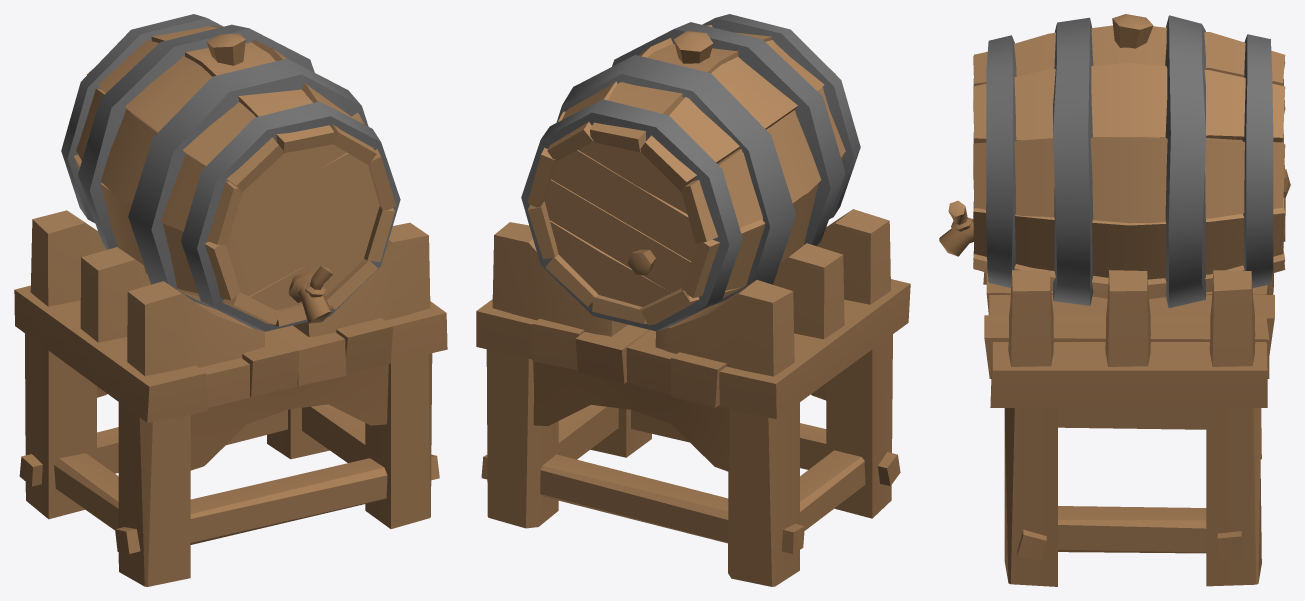
File: Barrel_K.fbx
The picture shows the model from 3 angles, left to right: view 1: azimuth 30°, elevation 25°; view 2: azimuth 150°, elevation 25°; view 3: azimuth 270°, elevation 25°; orthographic projection. The views are drawn at different scales.
Visible parts, largest first — view 1: Barrel_K; view 2: Barrel_K; view 3: Barrel_K.
Part boxes in pixels (x1,y1,x2,y2): Barrel_K: (14,14,447,586); Barrel_K: (476,14,910,586); Barrel_K: (939,14,1290,586).
Size of the model in its own units: 103 by 150 by 96.26.
